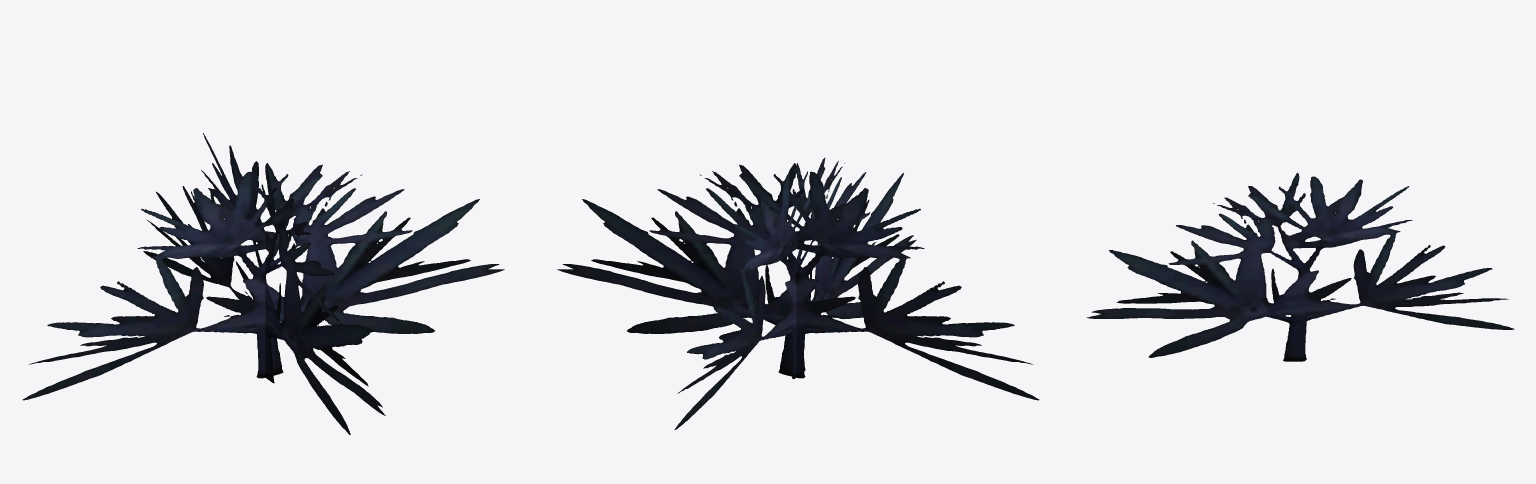
Rendered from shrb_blueleaf_huge_l2.fbx.
3 views of the same model, side by side, from view 1: azimuth 30°, elevation 25°; view 2: azimuth 150°, elevation 25°; view 3: azimuth 270°, elevation 25° (orthographic). The views are drawn at different scales.
Visible parts, largest first — view 1: mesh_node; view 2: mesh_node; view 3: mesh_node.
Boxes of the visible parts, x1,y1,x2,y2 form: mesh_node: (22, 133, 504, 434); mesh_node: (557, 158, 1039, 429); mesh_node: (1086, 172, 1514, 361).
Size of the model in its own units: 5.45 by 2.82 by 4.74.
Materials: 1 (1 with a texture image).
